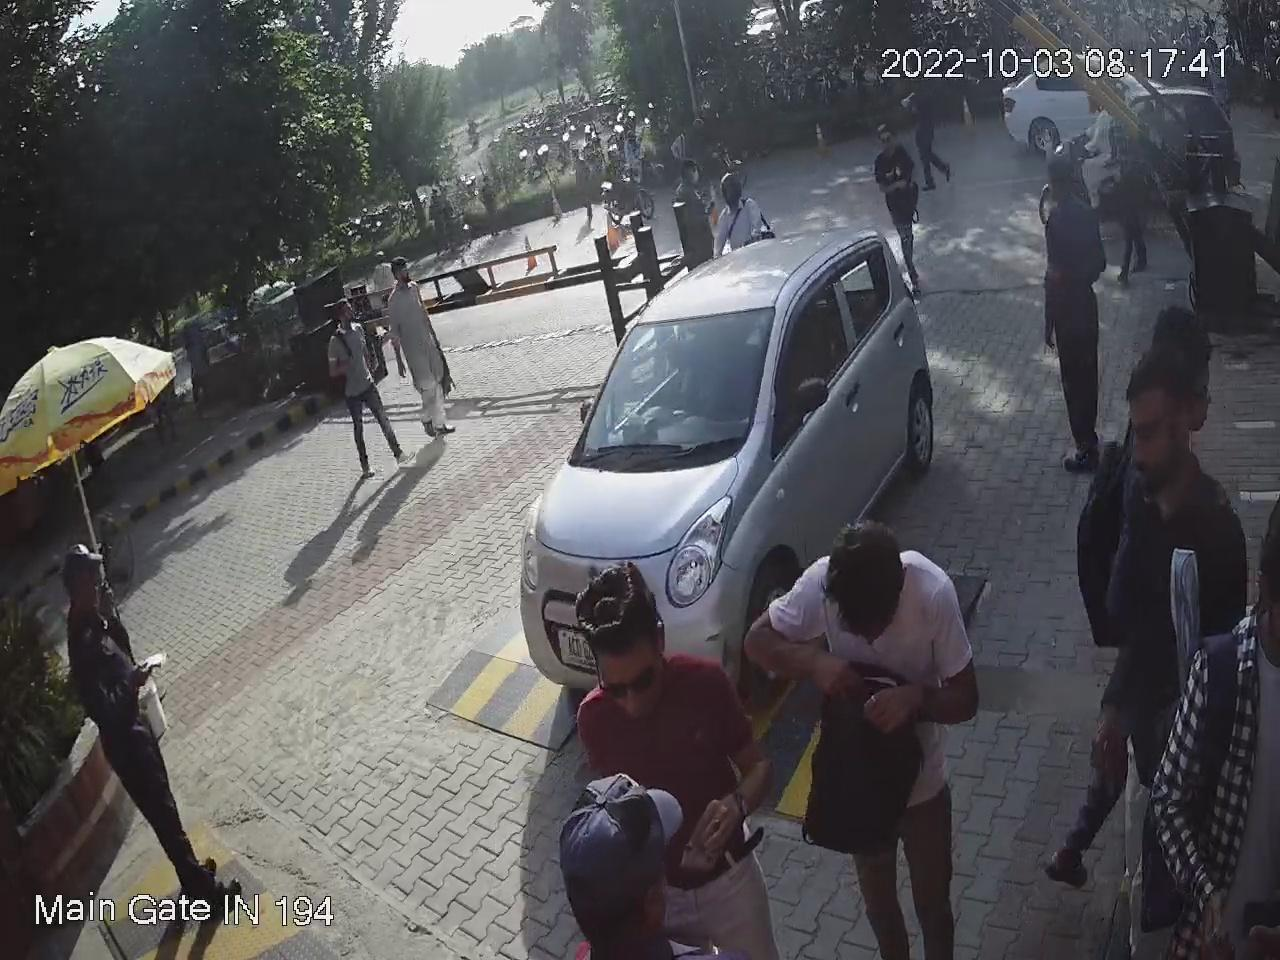windshield: (565, 305, 776, 473)
